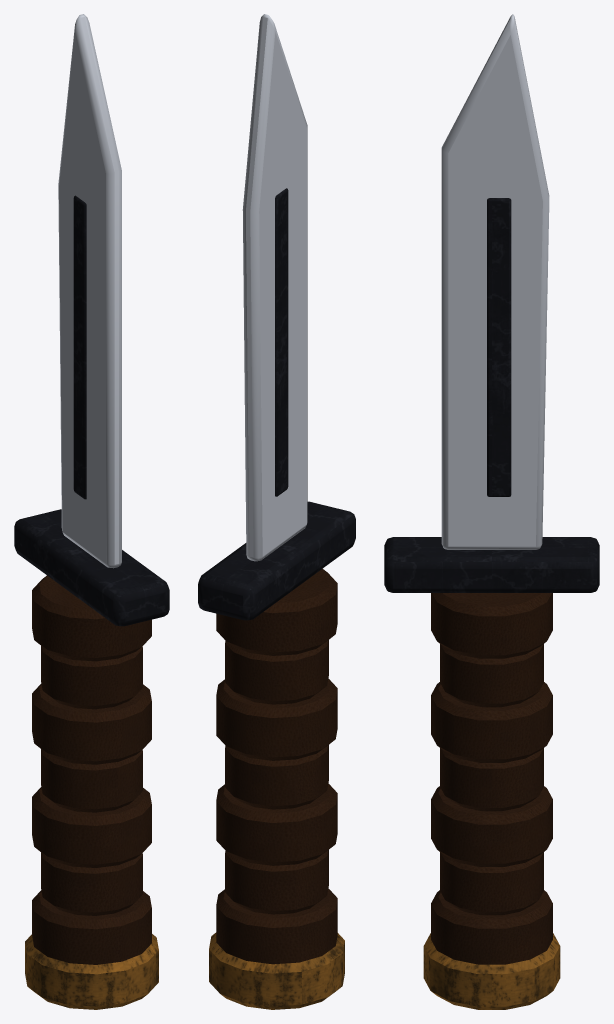
File: combat_knife.glb
3 views of the same model, side by side, from view 1: azimuth 30°, elevation 25°; view 2: azimuth 150°, elevation 25°; view 3: azimuth 270°, elevation 25° (orthographic).
Visible parts, largest first — view 1: CombatKnife; view 2: CombatKnife; view 3: CombatKnife.
Part boxes in pixels (box(x1,y1,x2,y2)): CombatKnife: box(14, 14, 169, 1009); CombatKnife: box(198, 14, 355, 1009); CombatKnife: box(384, 14, 599, 1009).
Bounding box in the file's own units: 0.037 × 0.298 × 0.06.
4 materials, 3 textured.
